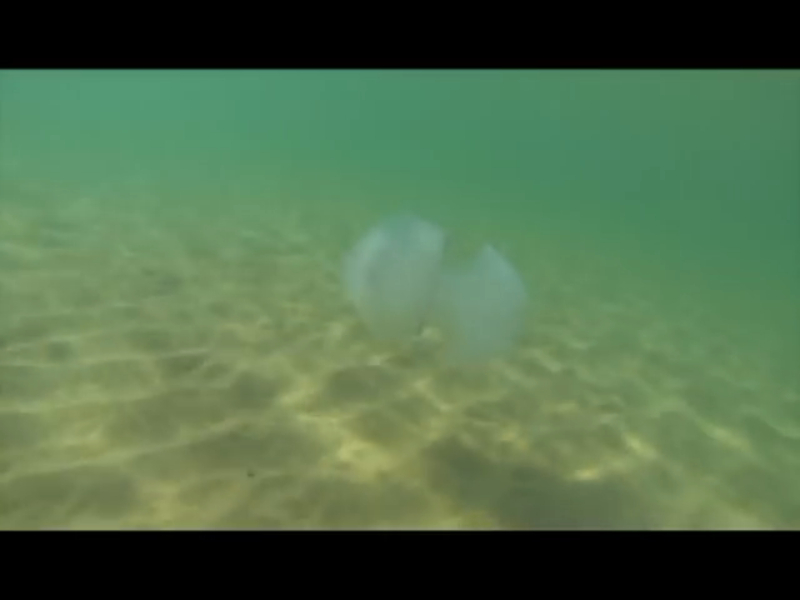white jellyfish: (332, 212, 530, 376)
